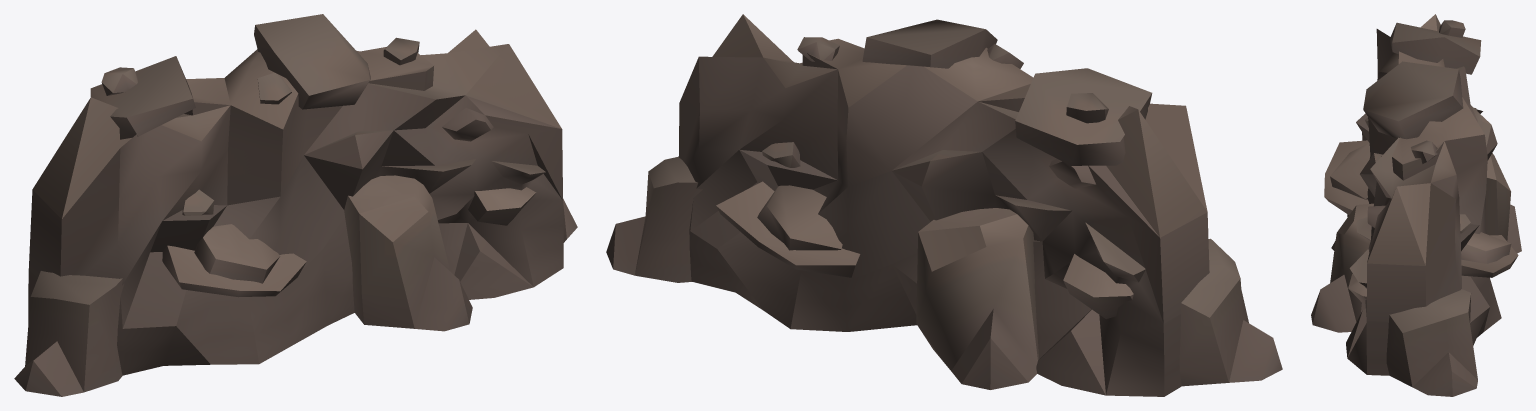
File: d_kaykit_eboulis.glb
3 views of the same model, side by side, from view 1: azimuth 30°, elevation 25°; view 2: azimuth 150°, elevation 25°; view 3: azimuth 270°, elevation 25° (orthographic). The views are drawn at different scales.
Parts seen in each view (by area): view 1: d_kaykit_eboulis; view 2: d_kaykit_eboulis; view 3: d_kaykit_eboulis.
Boxes of the visible parts, x1,y1,x2,y2 form: d_kaykit_eboulis: (14,14,577,396); d_kaykit_eboulis: (606,14,1282,396); d_kaykit_eboulis: (1311,14,1521,396).
Size of the model in its own units: 8.13 by 3.5 by 3.18.
1 material, 1 textured.
